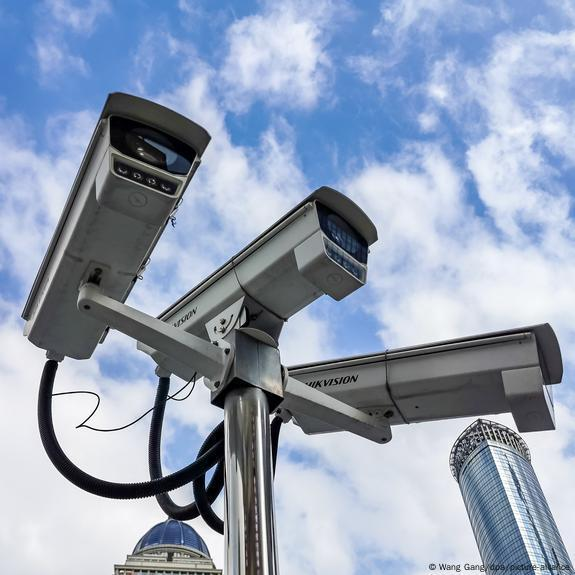------------------------------: (19, 86, 209, 376), (146, 186, 387, 372), (284, 319, 575, 441)
